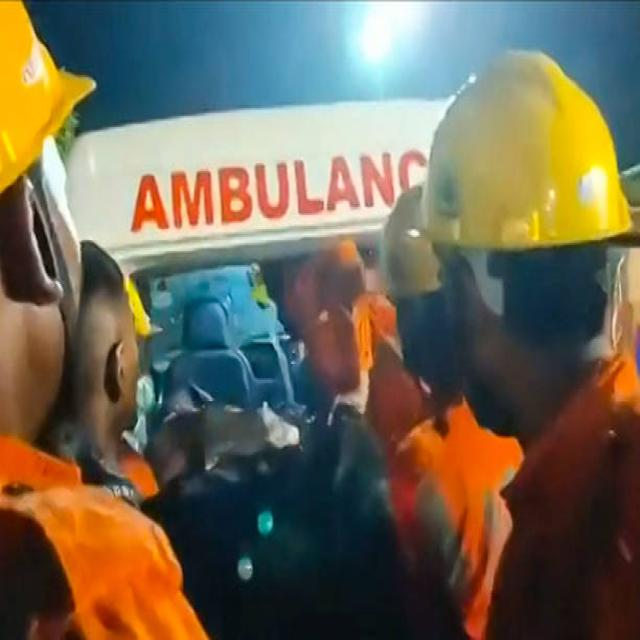ambulance: (132, 151, 423, 227)
